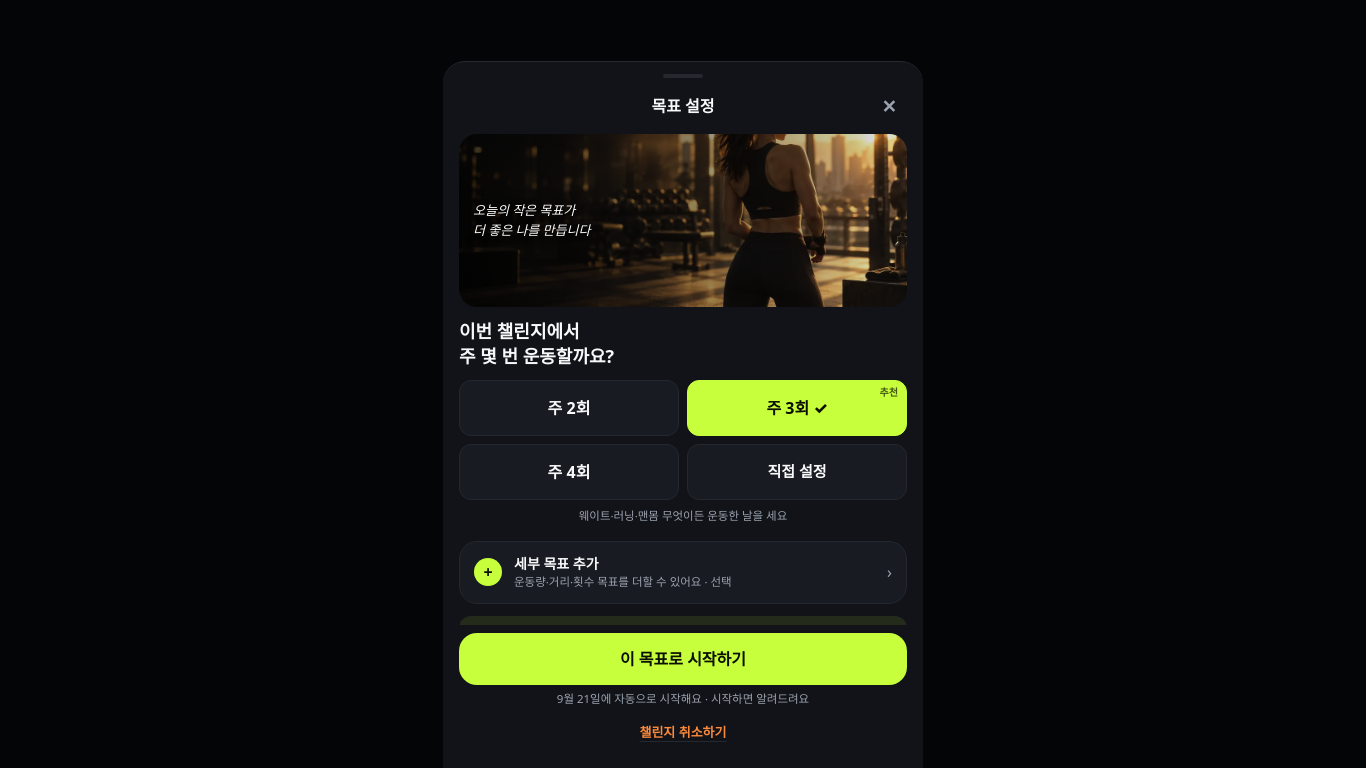
Test: 방장 챌린지 취소하기 › 세부 목표를 고르는 중에는 내지 않는다
Click the button "+ 세부 목표 추가 운동량·거리·횟수 목표를 더할 수 있어요 · 선택 ›". click: (683,572)
box: x1=459 y1=541 x2=907 y2=604
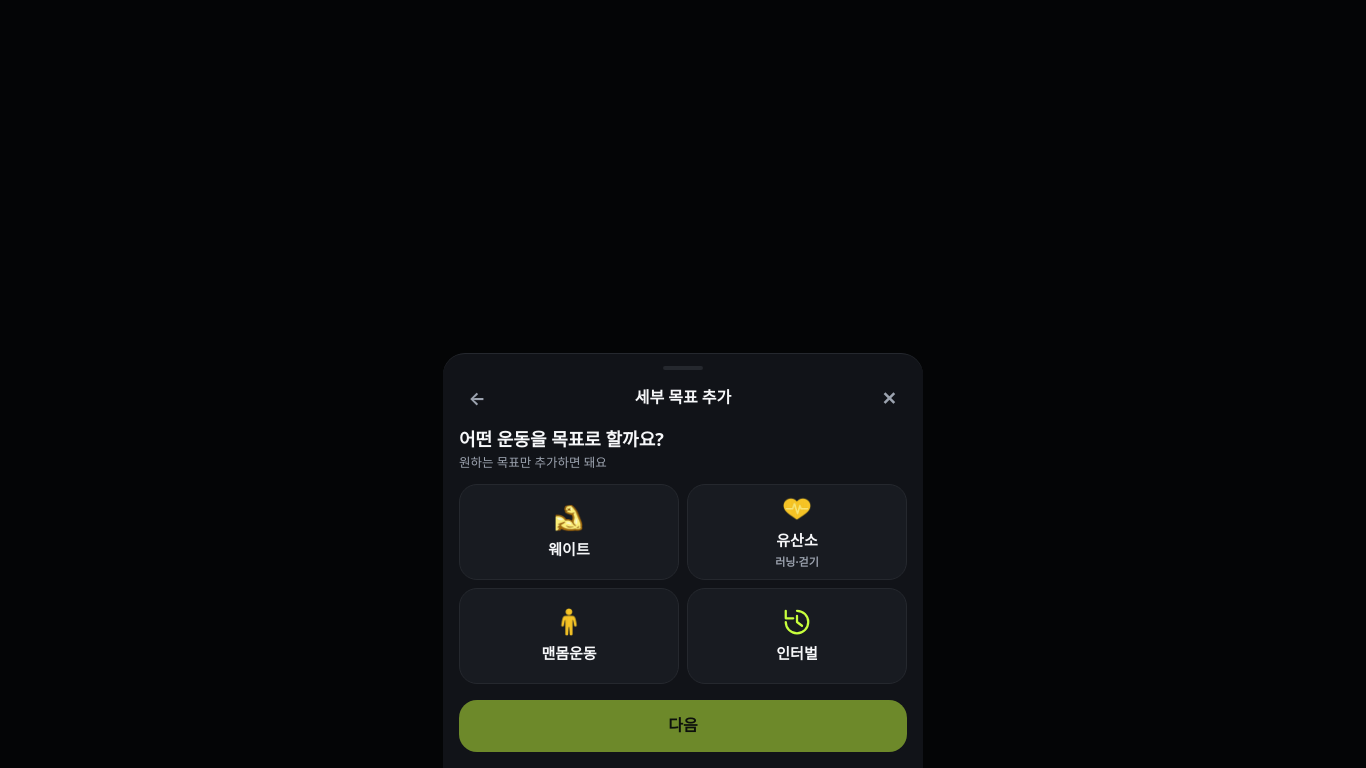
Check: the button "이 목표로 시작하기" is gone
Check: the button "챌린지 취소하기" is gone
